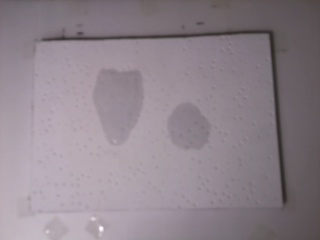Water_detected: (99, 76, 140, 136), (177, 111, 199, 140)
